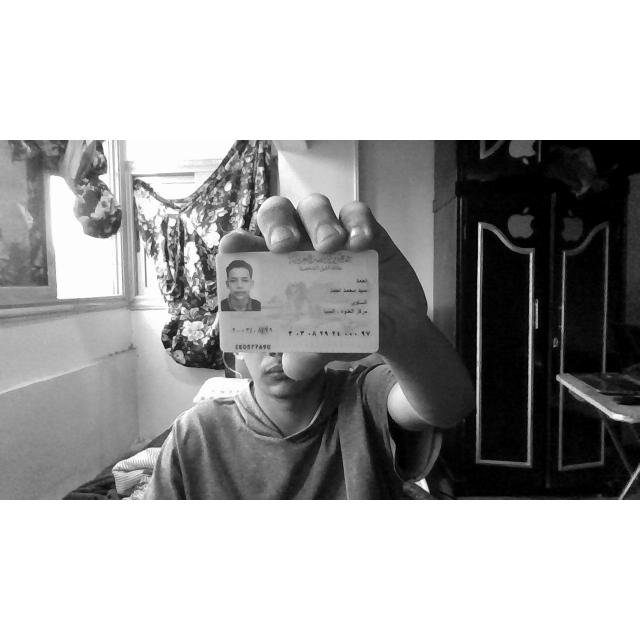front: (216, 250, 379, 352)
